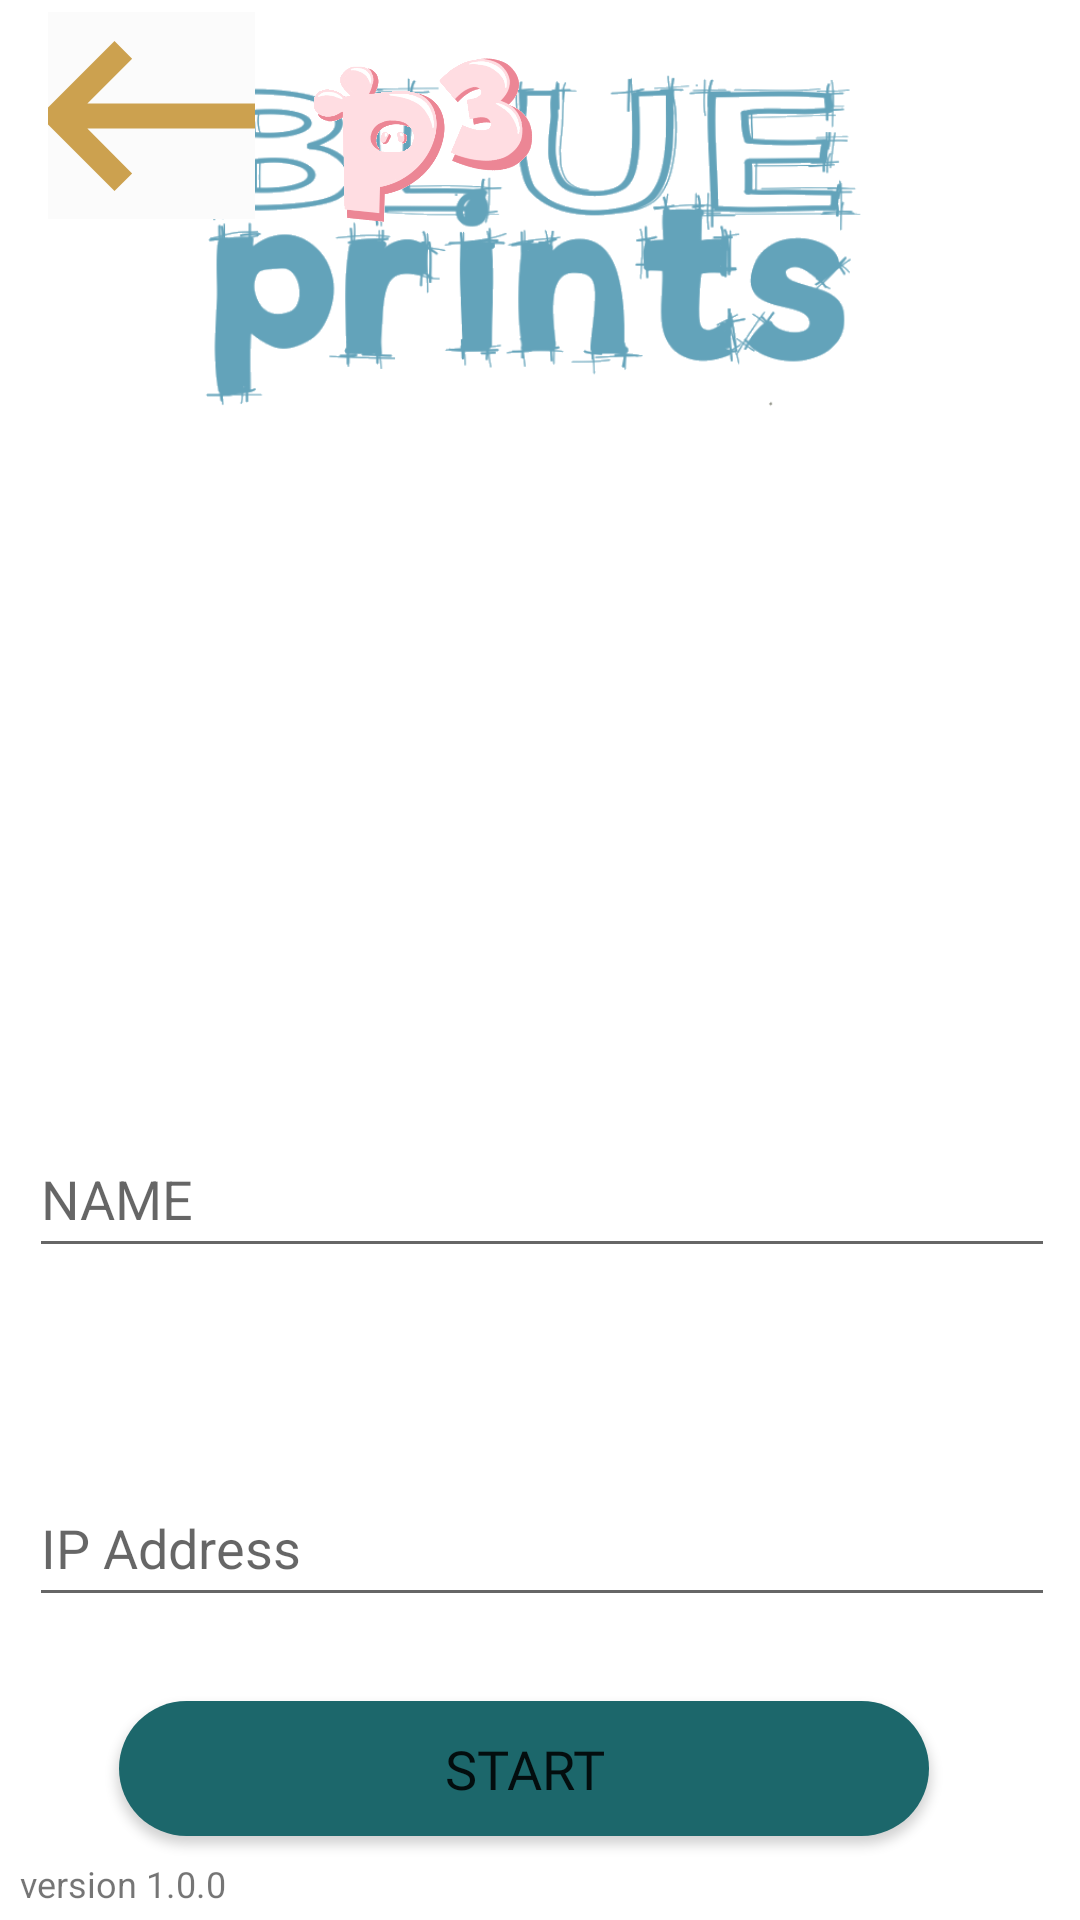

Icons on this 1080 x 1920 Android screen, each with the point to tap as point (x, y):
keyboard backspace: point (151, 116)
